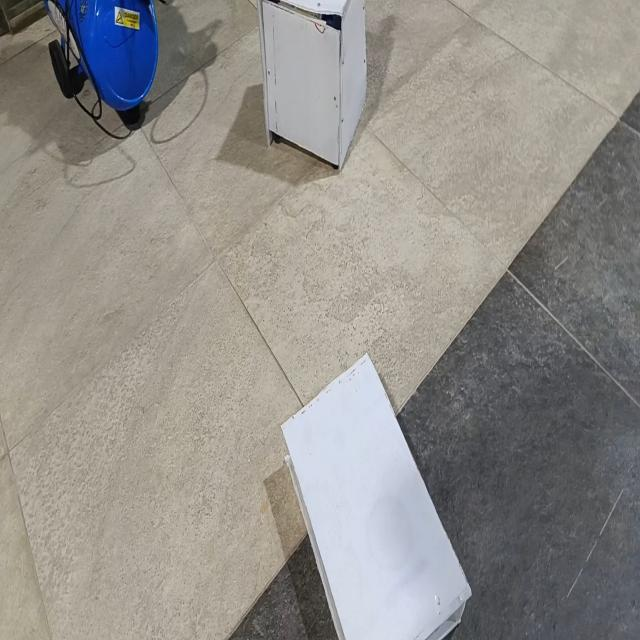Cube: (256, 0, 367, 172)
Cuboid: (280, 350, 472, 638)
